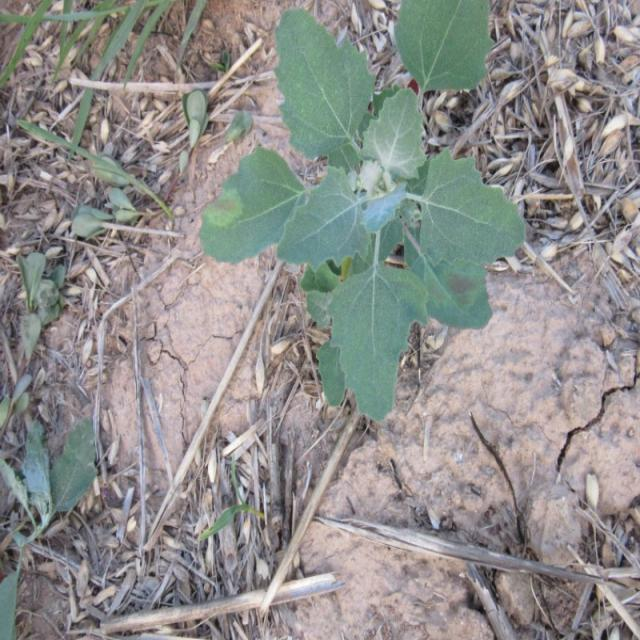ca: (196, 0, 526, 421)
